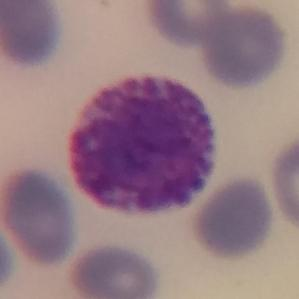Basophil: (64, 72, 222, 218)
RBC: (0, 164, 81, 268), (199, 2, 291, 91), (187, 173, 278, 262), (64, 240, 164, 299), (0, 0, 66, 70), (142, 0, 232, 47), (266, 133, 299, 234), (0, 221, 17, 296)
